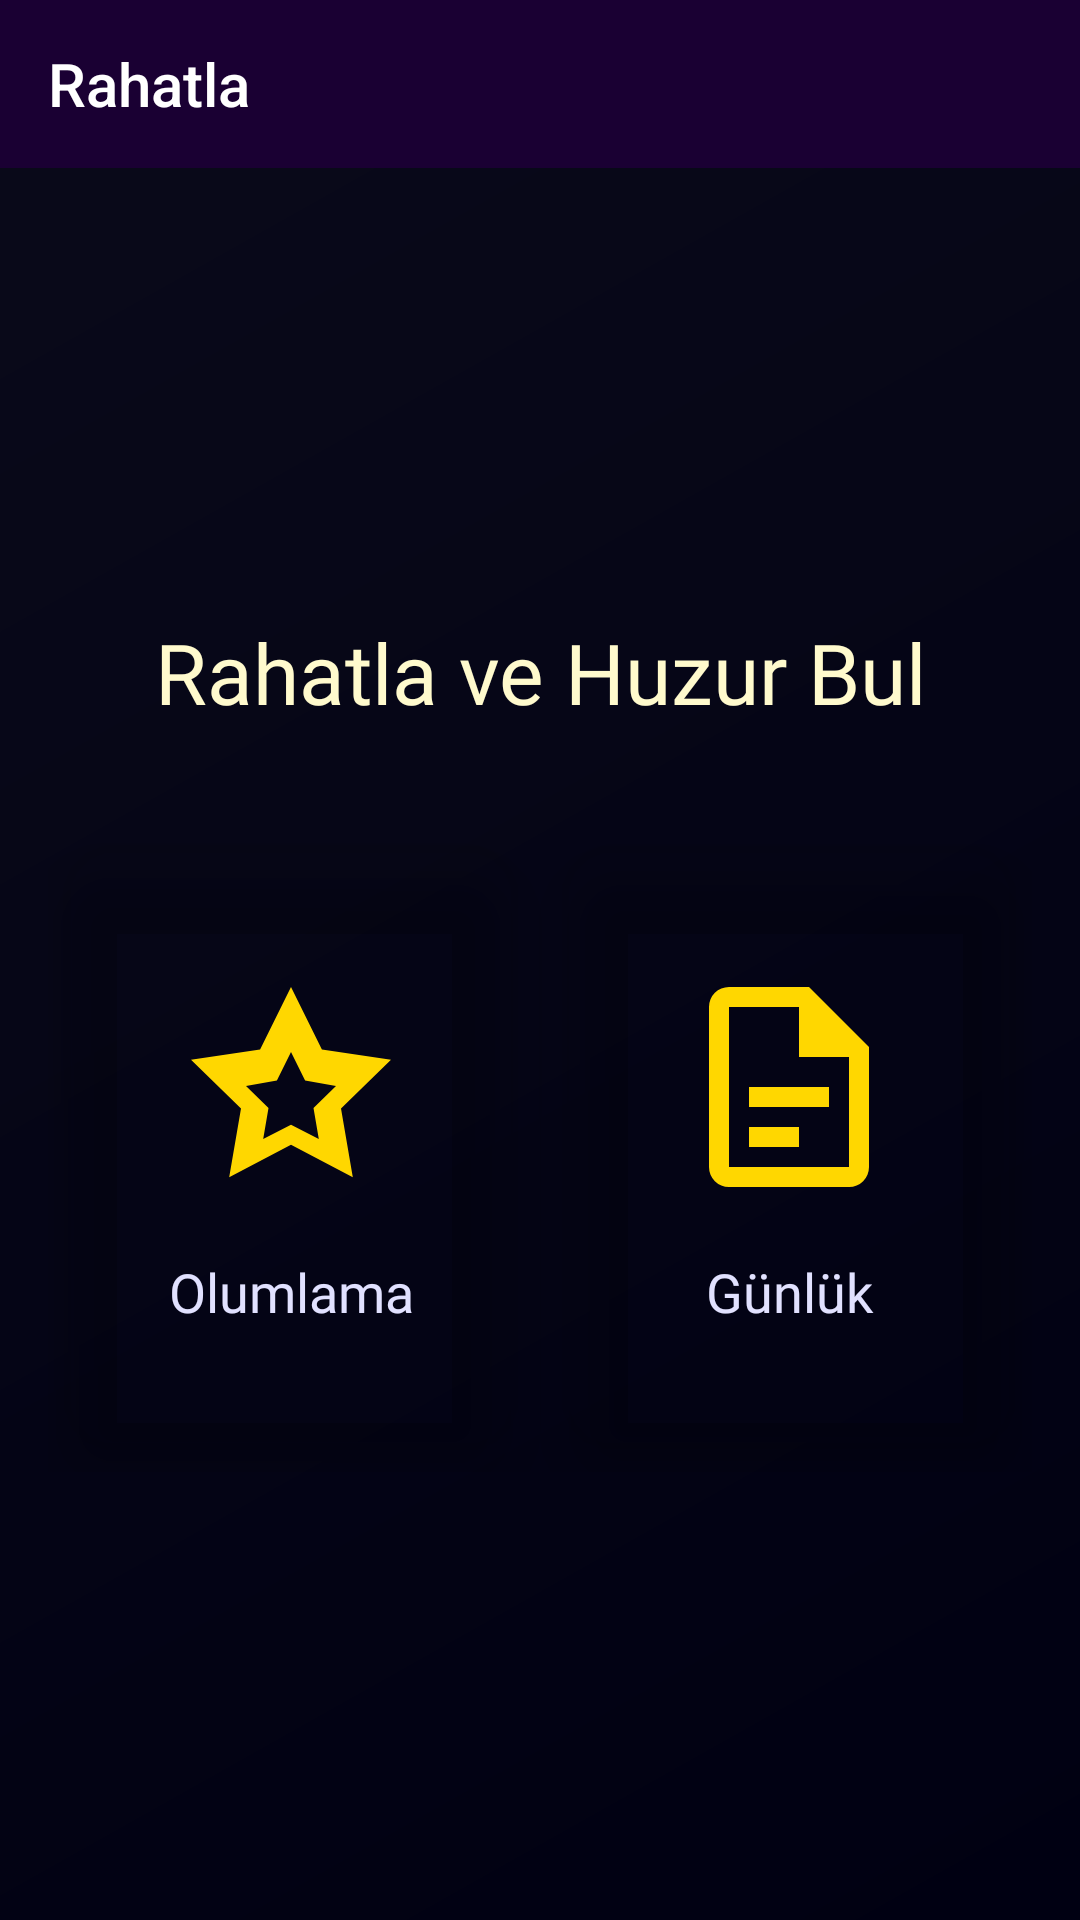

Screen size 1080×1920. Icon name, then its box in pixels as (x1, y1, x2, y2):
affirmations: (191, 987, 391, 1177)
journal: (709, 987, 869, 1187)
